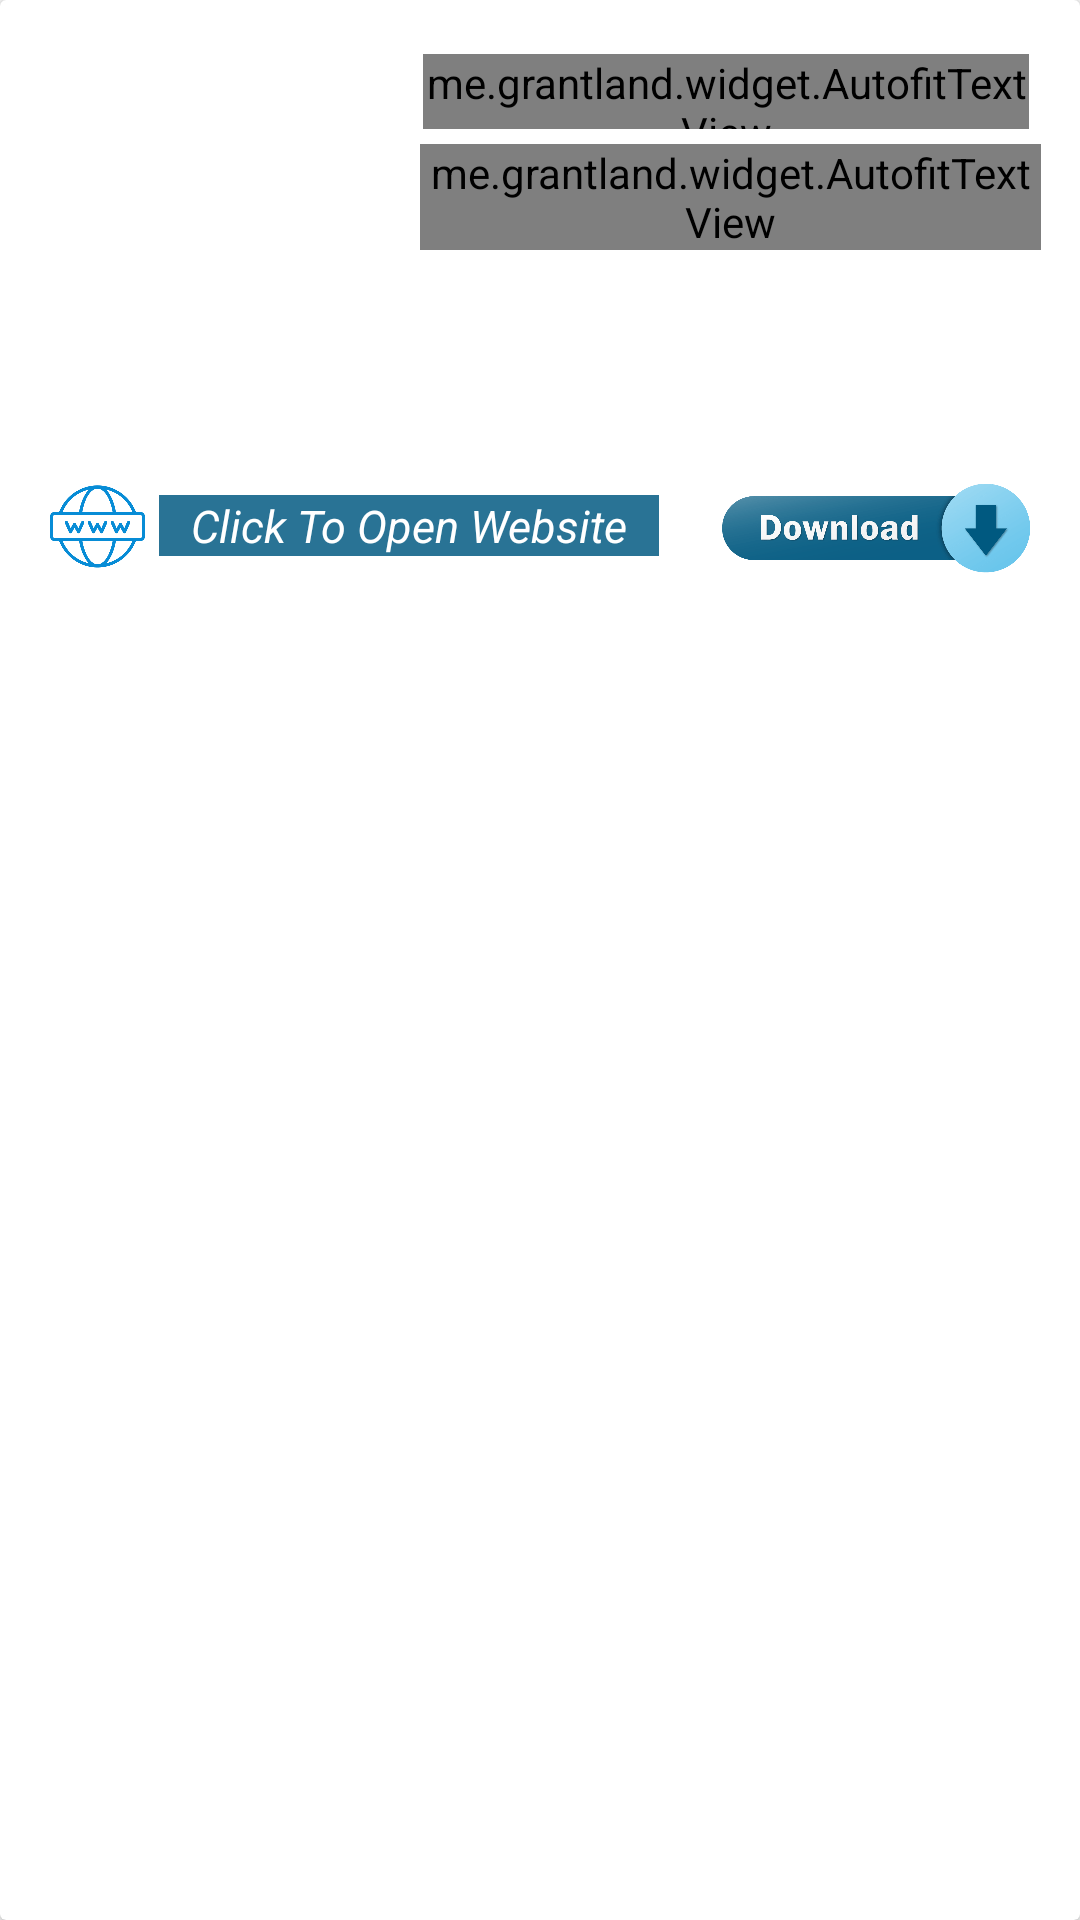

Icon click points for this 1080 × 1920 phone screenshot, format point (x, y):
internet: point (97, 526)
